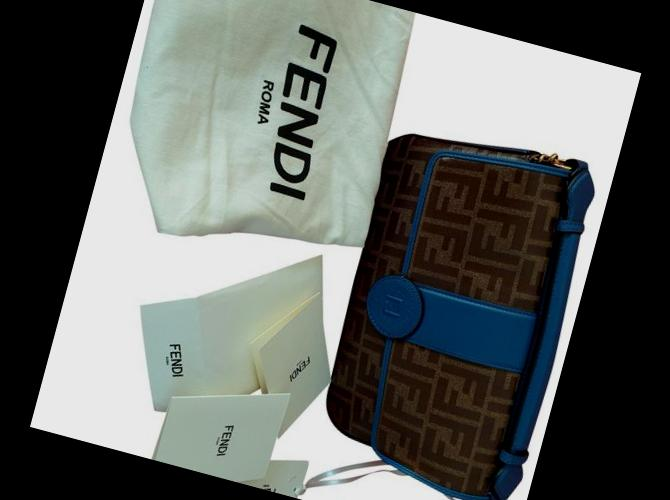FENDI: (254, 24, 347, 200), (161, 341, 191, 380), (286, 352, 312, 386), (215, 424, 234, 458), (251, 482, 275, 492)
